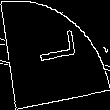L_W: (31, 35, 79, 75)
